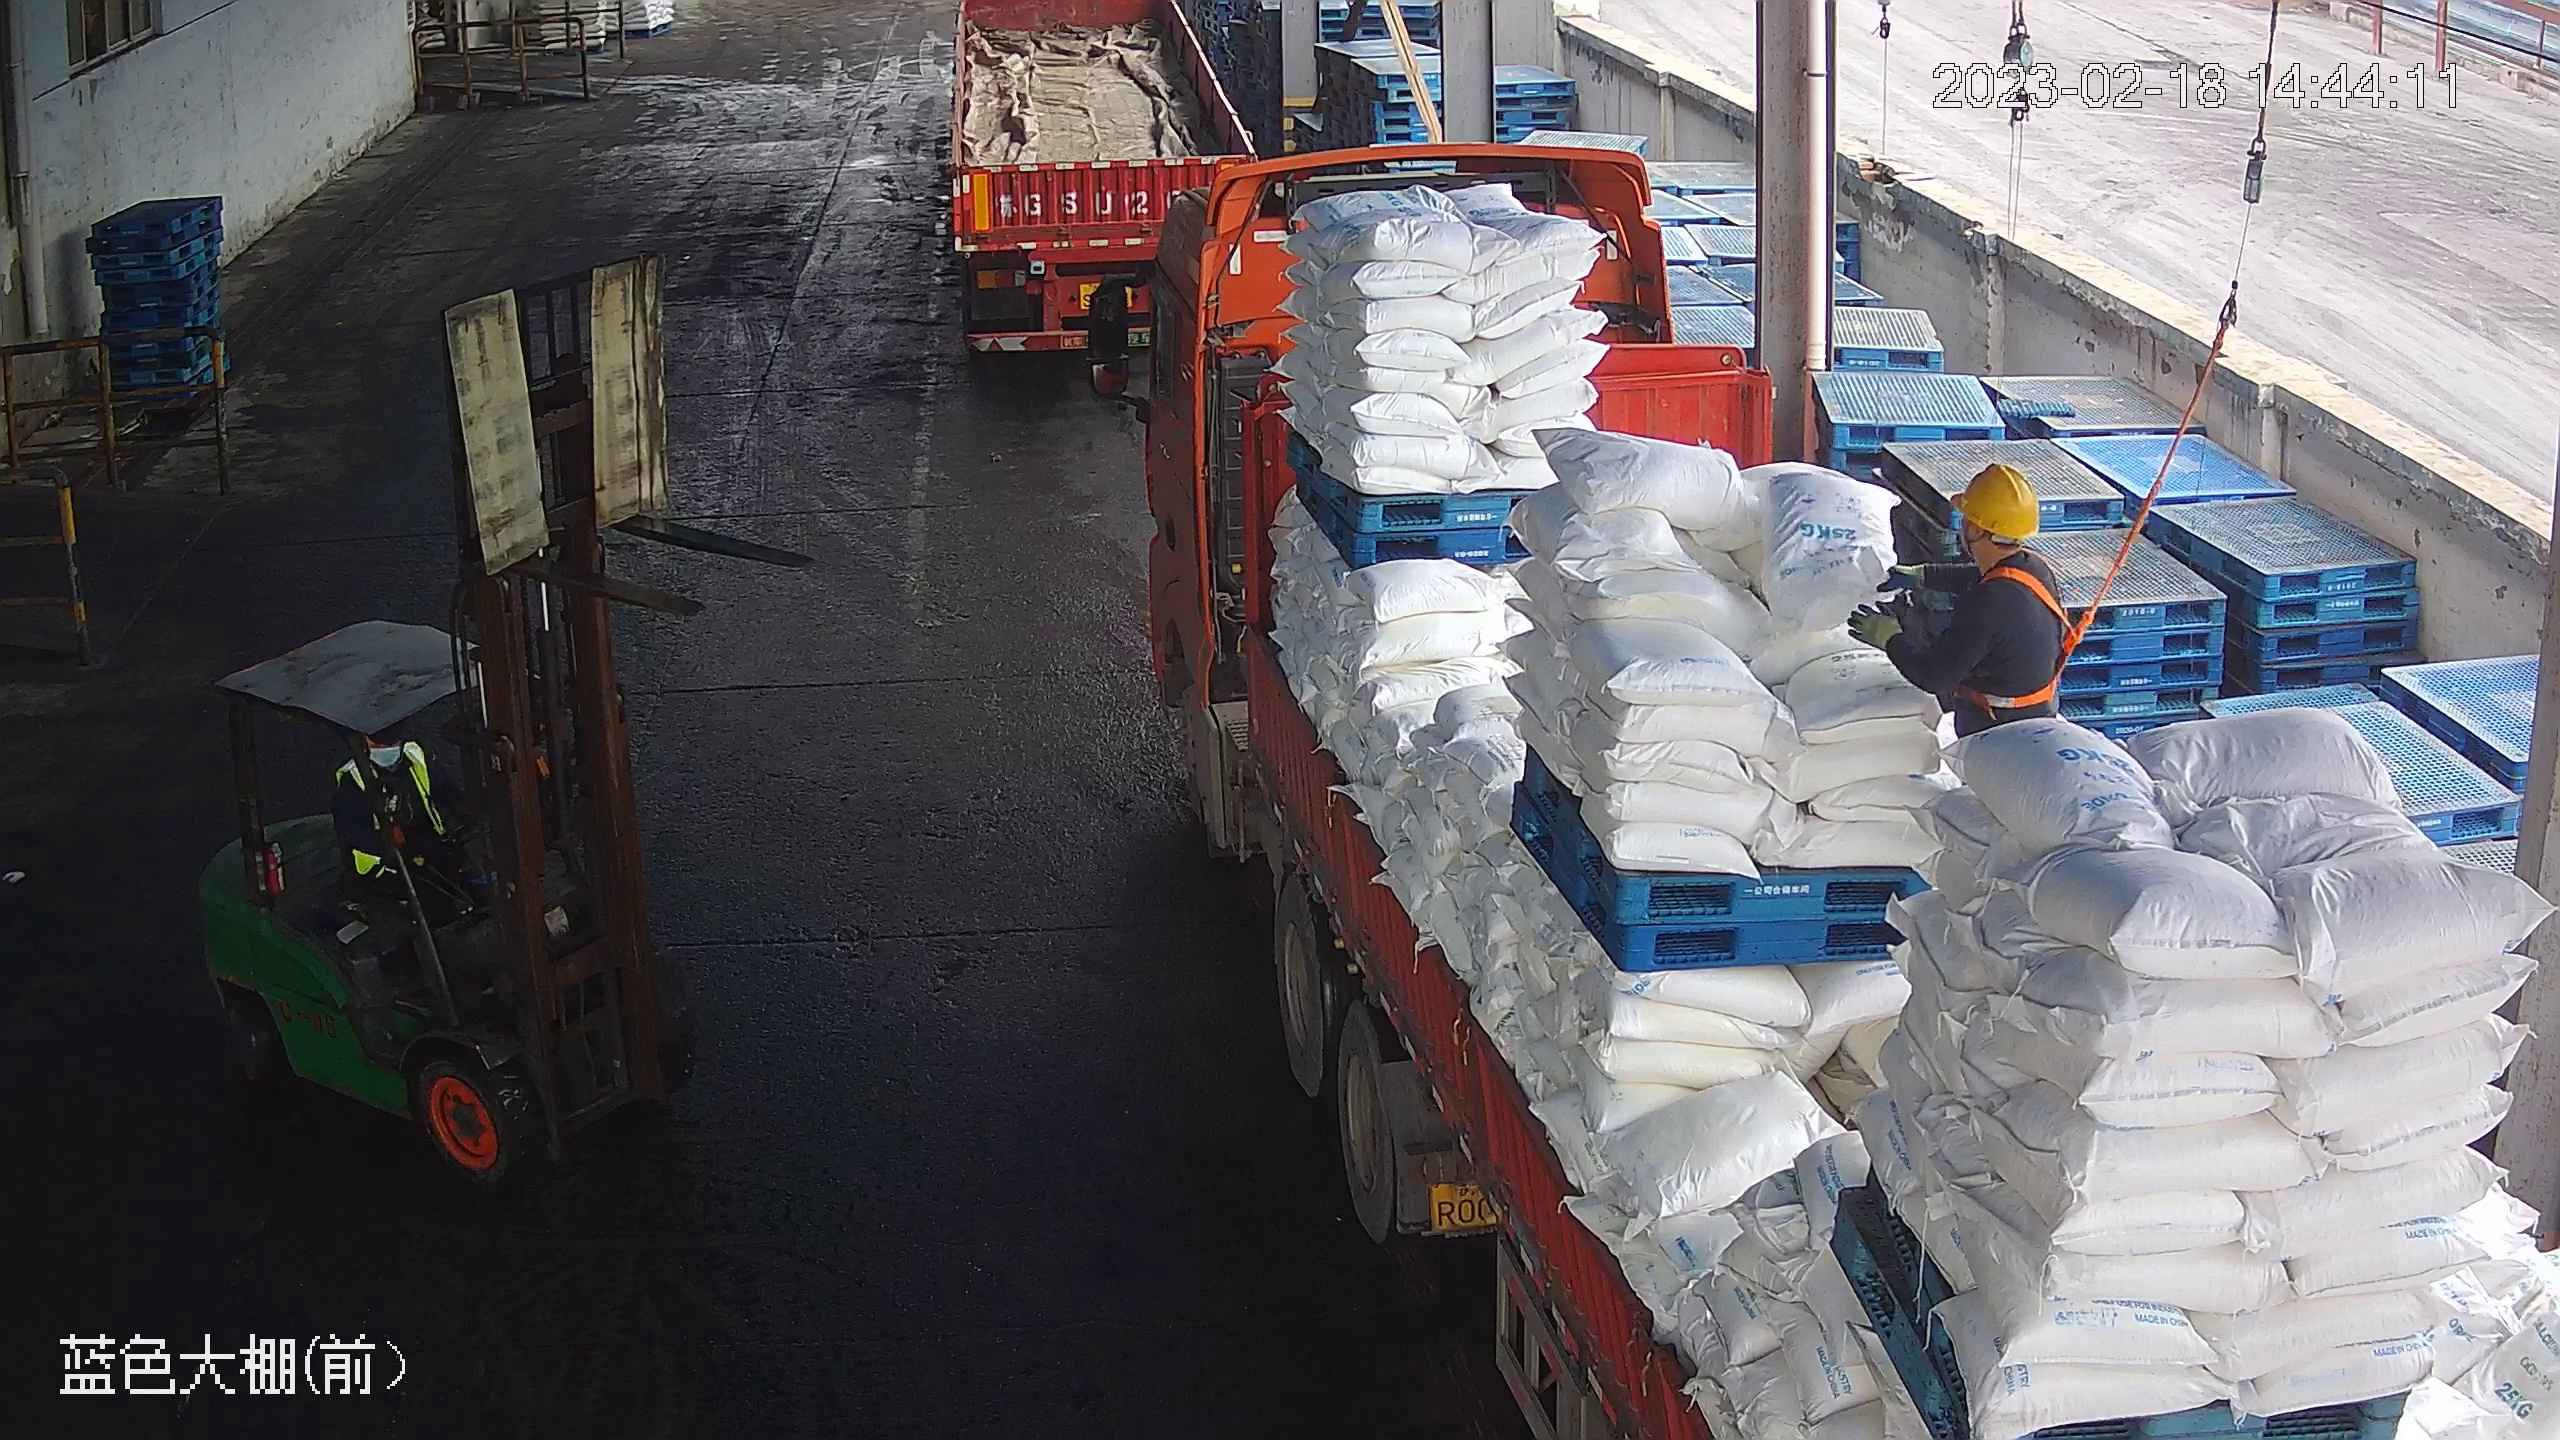belt: (1966, 554, 2093, 714)
head: (1938, 461, 2063, 631)
helmet: (1948, 460, 2042, 540)
people: (1847, 460, 2073, 749)
truck: (1081, 141, 2560, 1440), (949, 1, 1262, 355)
